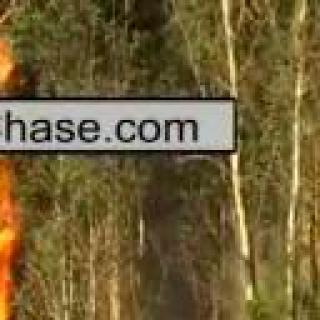fire: (0, 151, 12, 320), (0, 8, 21, 101)
